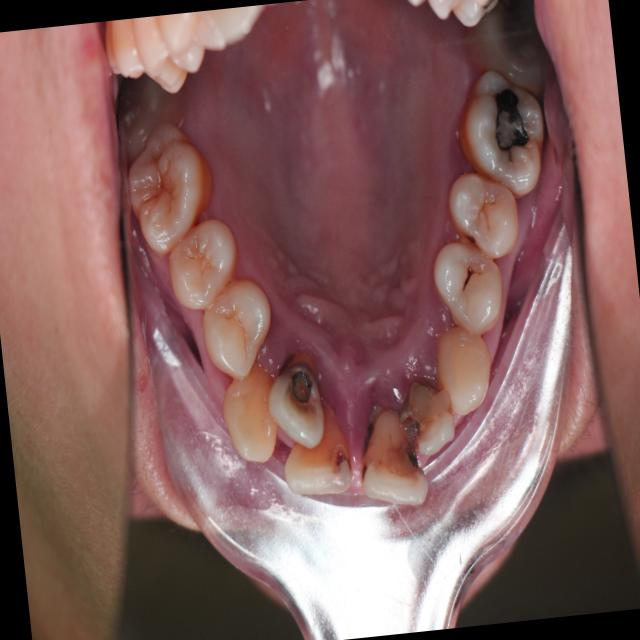tooth: (107, 107, 230, 268), (448, 59, 559, 206), (343, 389, 436, 521), (437, 146, 529, 273), (189, 261, 280, 388), (453, 0, 562, 100), (107, 57, 199, 174), (255, 335, 341, 460), (421, 226, 512, 343), (418, 309, 505, 431), (154, 211, 249, 318), (203, 361, 293, 471), (270, 398, 357, 503), (388, 362, 463, 468)
